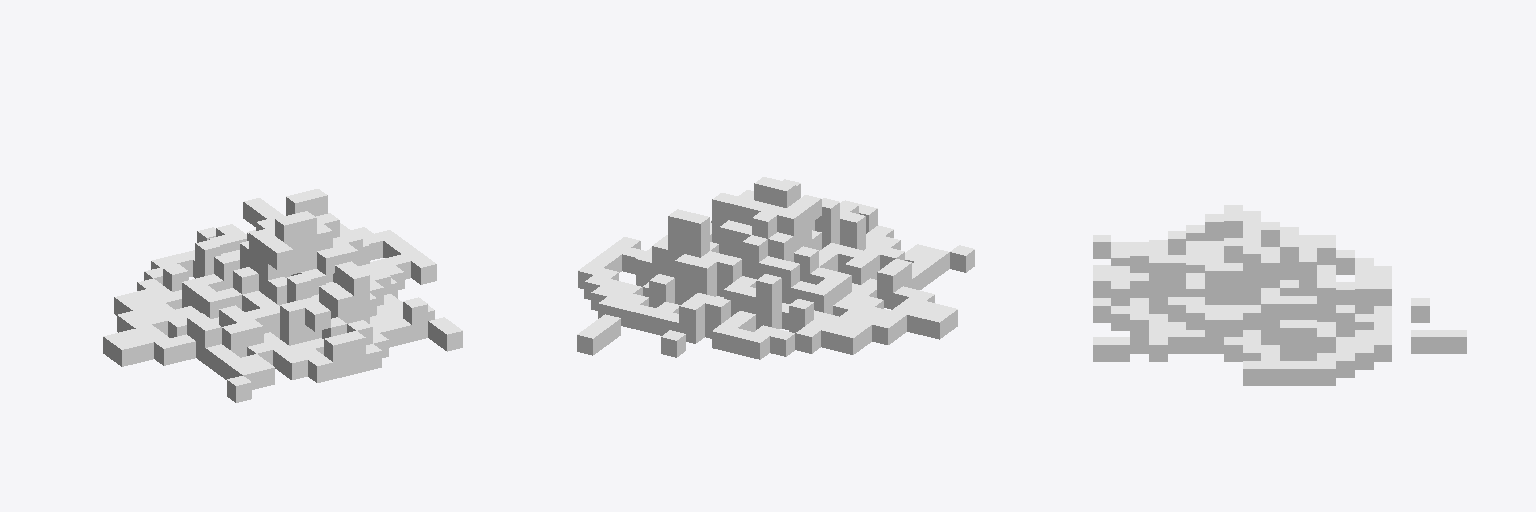
File: bush-32-32.obj
3 views of the same model, side by side, from view 1: azimuth 30°, elevation 25°; view 2: azimuth 150°, elevation 25°; view 3: azimuth 270°, elevation 25° (orthographic).
Parts seen in each view (by area): view 1: object 1; view 2: object 1; view 3: object 1.
Part boxes in pixels (x1,y1,x2,y2): object 1: (103,189,462,402); object 1: (577,177,974,359); object 1: (1093,205,1466,385).
Size of the model in its own units: 2 by 0.6 by 2.